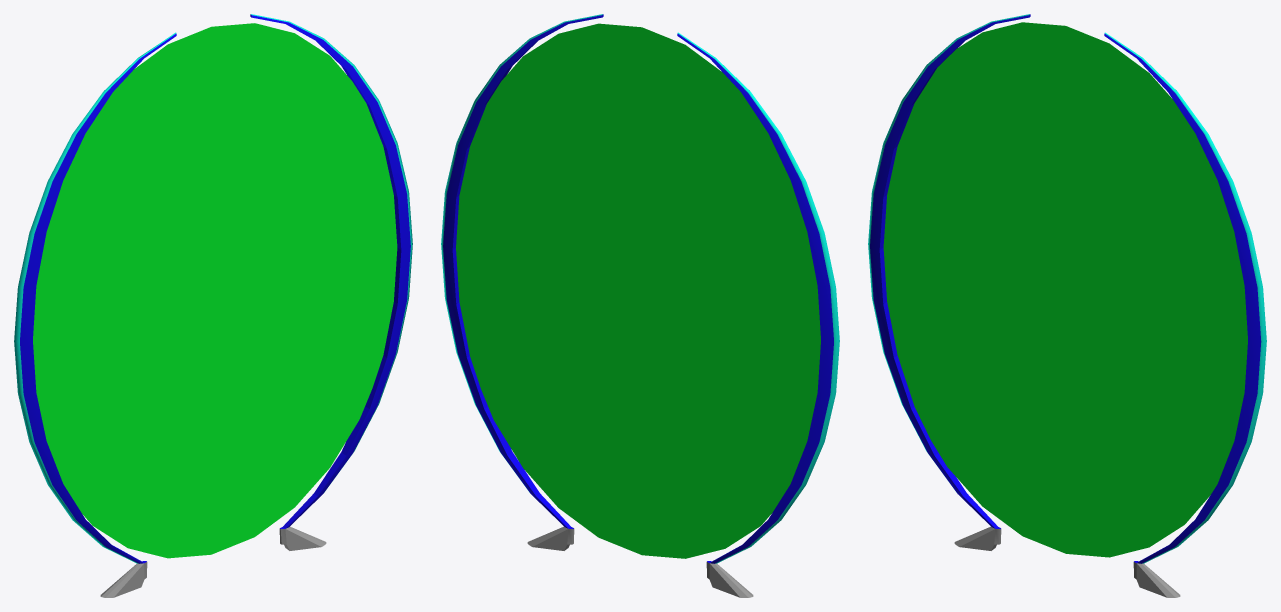
Rendered from Teleporter.FBX.
The picture shows the model from 3 angles, left to right: view 1: azimuth 30°, elevation 25°; view 2: azimuth 150°, elevation 25°; view 3: azimuth 330°, elevation 25°; orthographic projection.
Parts seen in each view (by area): view 1: Circle001, Sphere001; view 2: Circle001, Sphere001; view 3: Circle001, Sphere001.
Boxes of the visible parts, left/top/right/bottom form: Circle001: left=33, top=23, right=397, bottom=558; Sphere001: left=14, top=14, right=412, bottom=597; Circle001: left=456, top=23, right=820, bottom=558; Sphere001: left=441, top=14, right=839, bottom=597; Circle001: left=883, top=22, right=1247, bottom=557; Sphere001: left=868, top=14, right=1266, bottom=597.
Size of the model in its own units: 8.13 by 10.64 by 0.2963.
